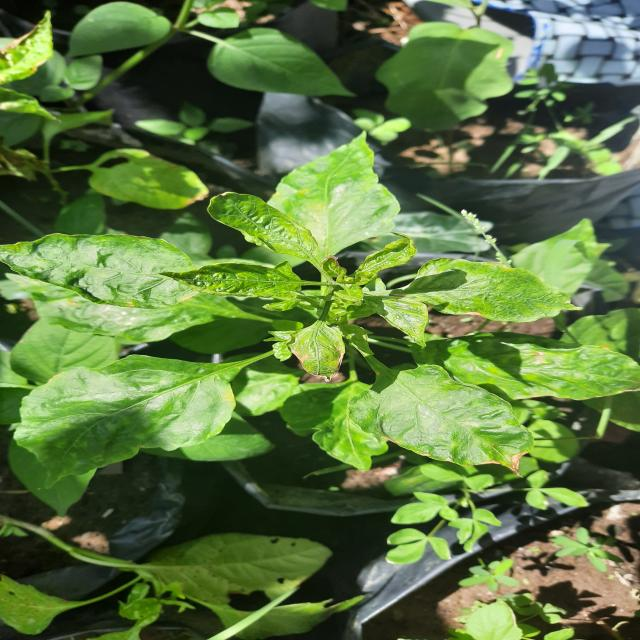bercak_daun: (361, 358, 552, 472), (276, 314, 355, 382)
